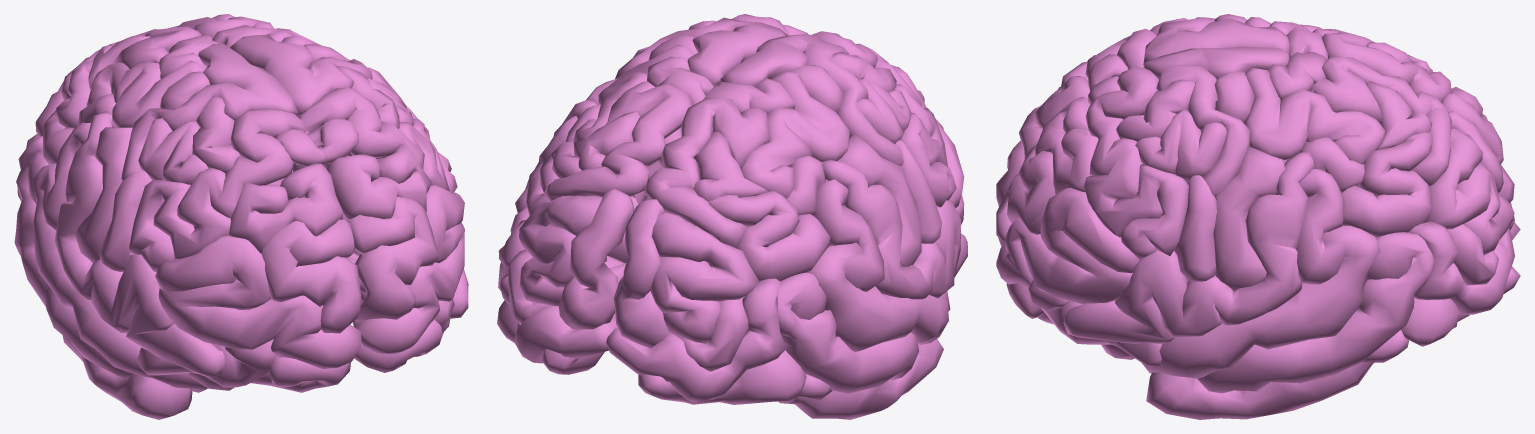
The model's file is brain.fbx.
3 views of the same model, side by side, from view 1: azimuth 30°, elevation 25°; view 2: azimuth 150°, elevation 25°; view 3: azimuth 270°, elevation 25° (orthographic). The views are drawn at different scales.
Visible parts, largest first — view 1: BRAIN_MAT_BrainRight_0; view 2: BRAIN_MAT_BrainRight_0; view 3: BRAIN_MAT_BrainRight_0.
Boxes of the visible parts, left/top/right/bottom form: BRAIN_MAT_BrainRight_0: left=14, top=14, right=468, bottom=419; BRAIN_MAT_BrainRight_0: left=497, top=14, right=967, bottom=419; BRAIN_MAT_BrainRight_0: left=996, top=14, right=1520, bottom=419.
Bounding box in the file's own units: 1479 × 1226 × 1849.
